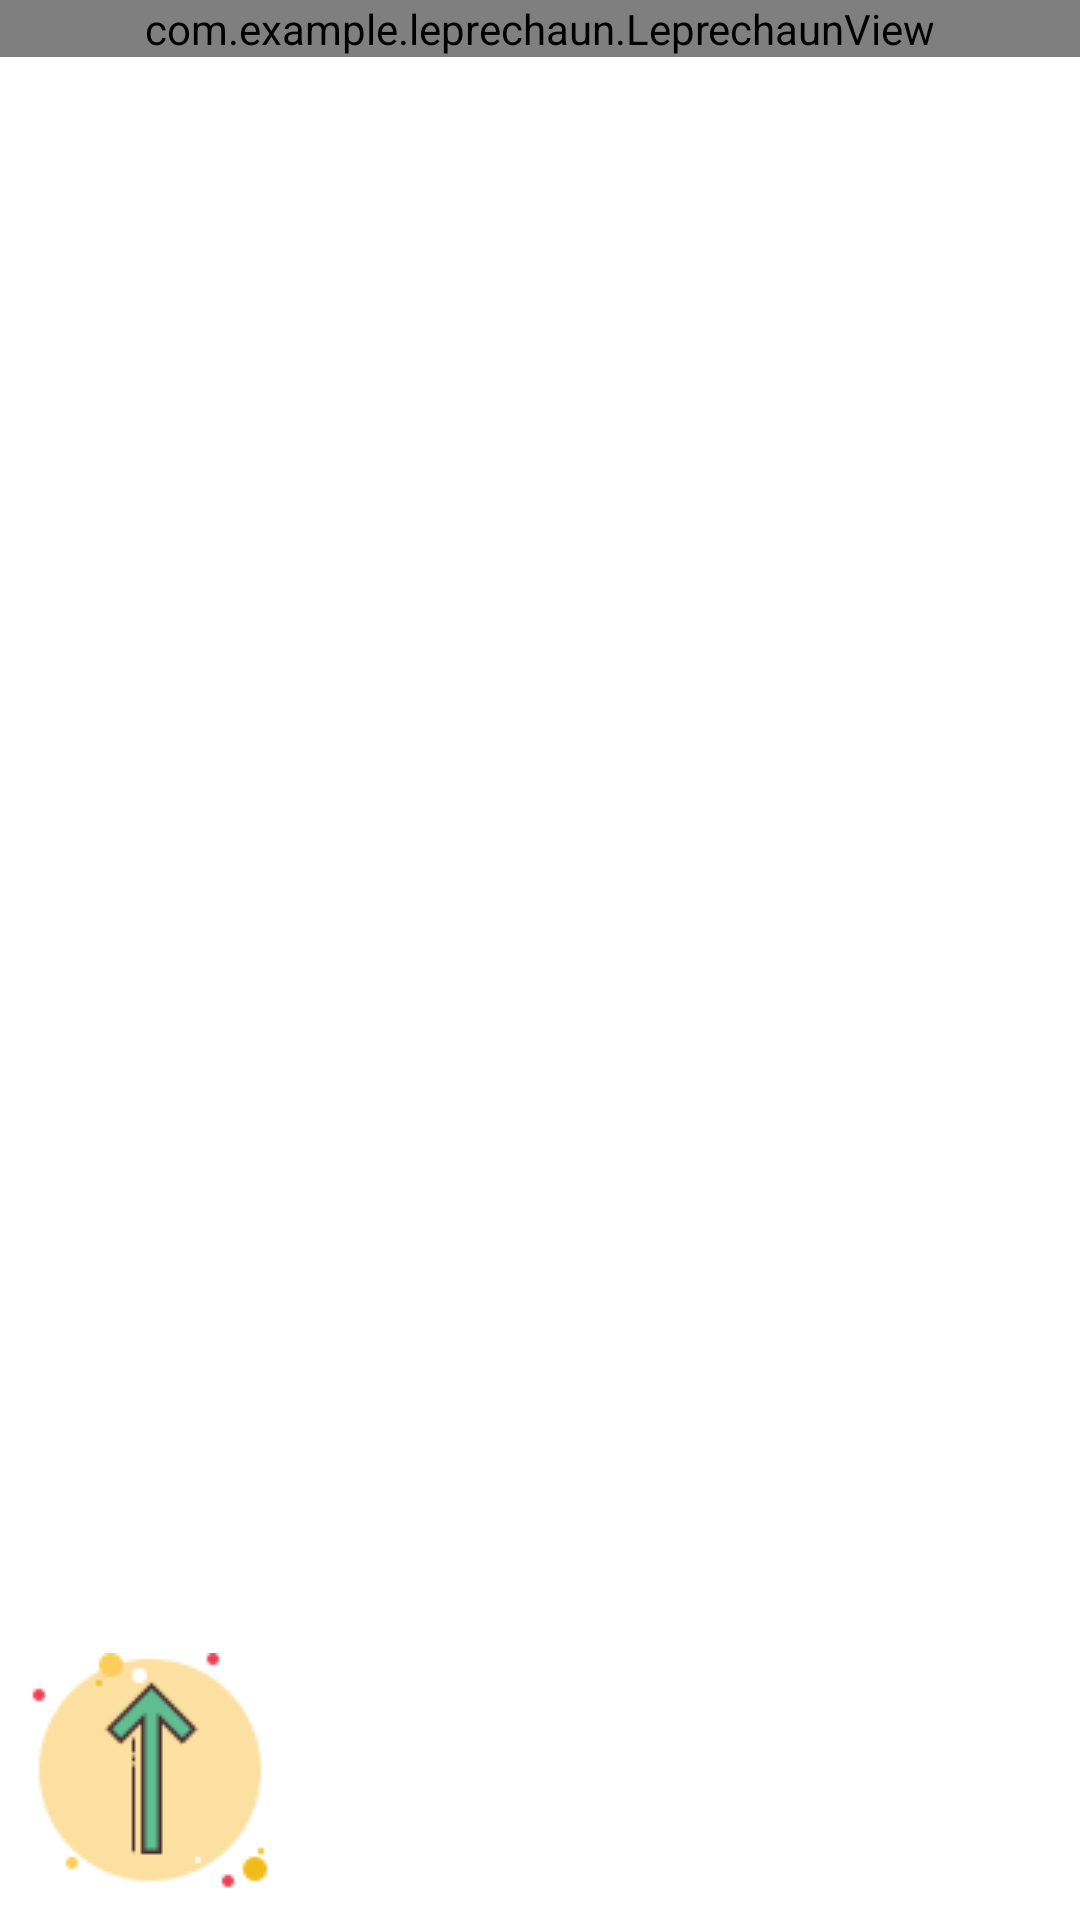

Icon bounding boxes for this 1080*1920 phone screenshot, format (x1, y1, x2, y2):
arrow: (32, 1653, 268, 1888)
